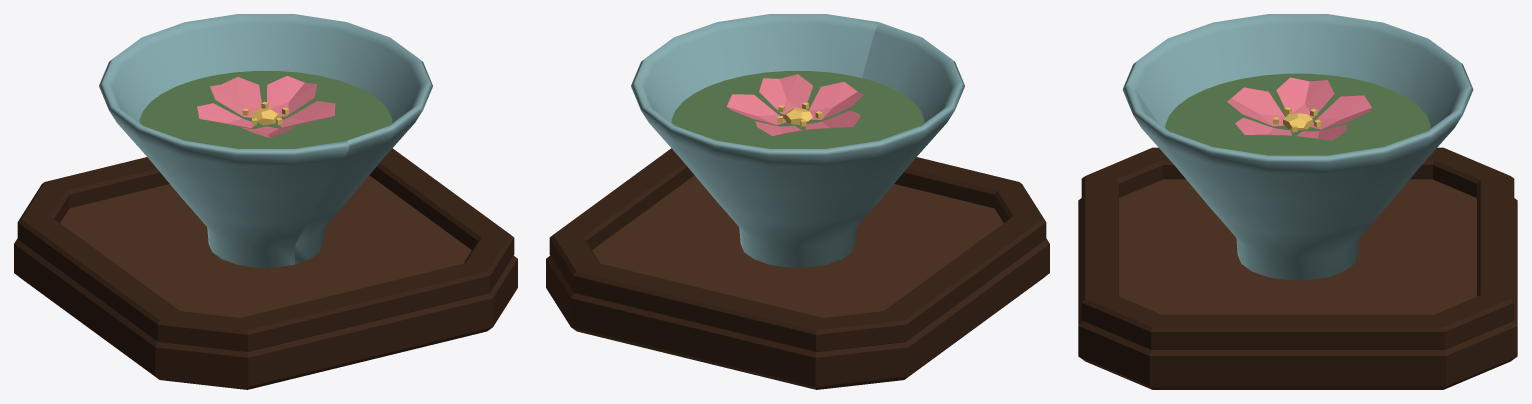
The model's file is qianlin_teacup.glb.
The picture shows the model from 3 angles, left to right: view 1: azimuth 30°, elevation 25°; view 2: azimuth 150°, elevation 25°; view 3: azimuth 270°, elevation 25°; orthographic projection. The views are drawn at different scales.
Parts seen in each view (by area): view 1: WoodenTeaTray, ChineseTeaCup, FloatingFivePetalFlower; view 2: WoodenTeaTray, ChineseTeaCup, FloatingFivePetalFlower; view 3: WoodenTeaTray, ChineseTeaCup, FloatingFivePetalFlower.
Part boxes in pixels (box(x1,y1,x2,y2)): WoodenTeaTray: box(14, 148, 517, 389); ChineseTeaCup: box(99, 14, 432, 267); FloatingFivePetalFlower: box(197, 75, 335, 137); WoodenTeaTray: box(546, 148, 1049, 389); ChineseTeaCup: box(631, 14, 964, 267); FloatingFivePetalFlower: box(726, 74, 863, 135); WoodenTeaTray: box(1078, 147, 1517, 389); ChineseTeaCup: box(1122, 14, 1473, 280); FloatingFivePetalFlower: box(1227, 77, 1371, 140).
Bounding box in the file's own units: 4.96 × 2.72 × 4.96.
